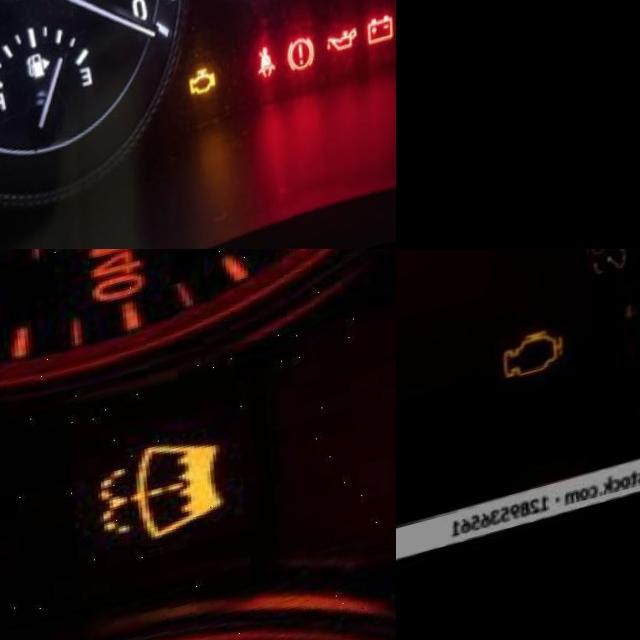Seat Belt: (247, 56, 269, 98)
Washer Fluid: (92, 447, 218, 567)
